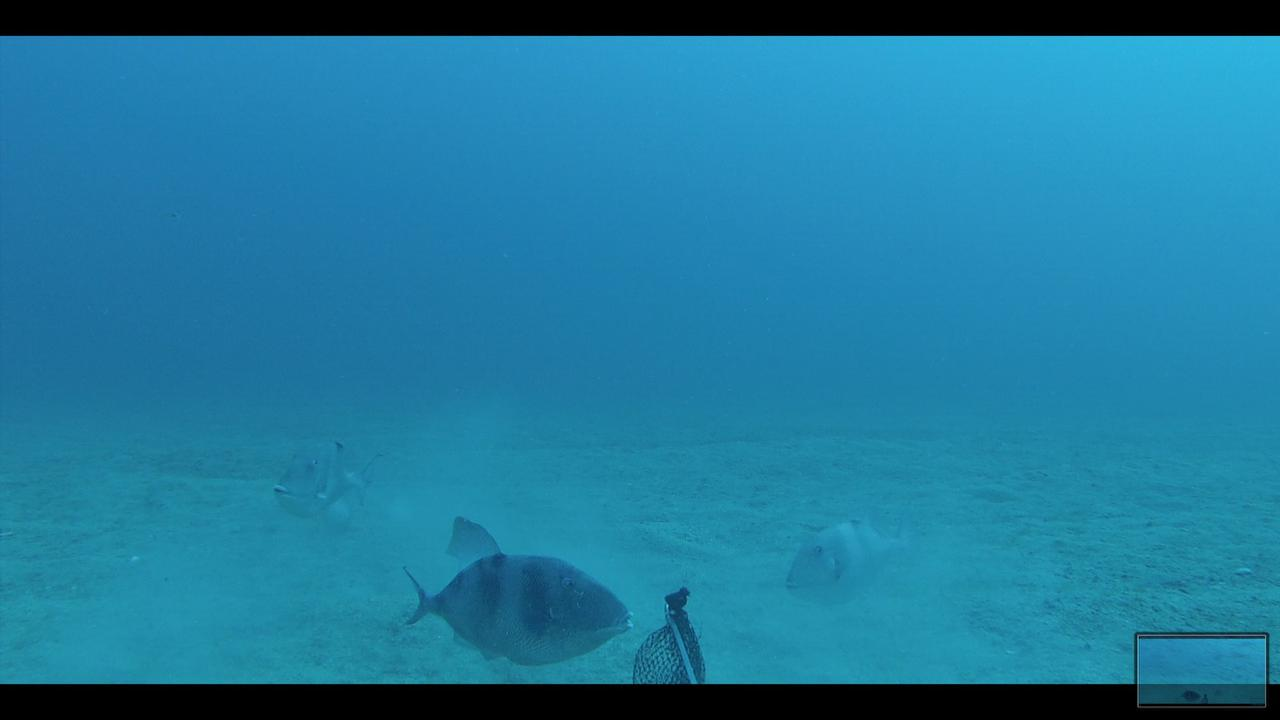balistes: (395, 512, 633, 665), (779, 500, 916, 606), (269, 434, 385, 534)
